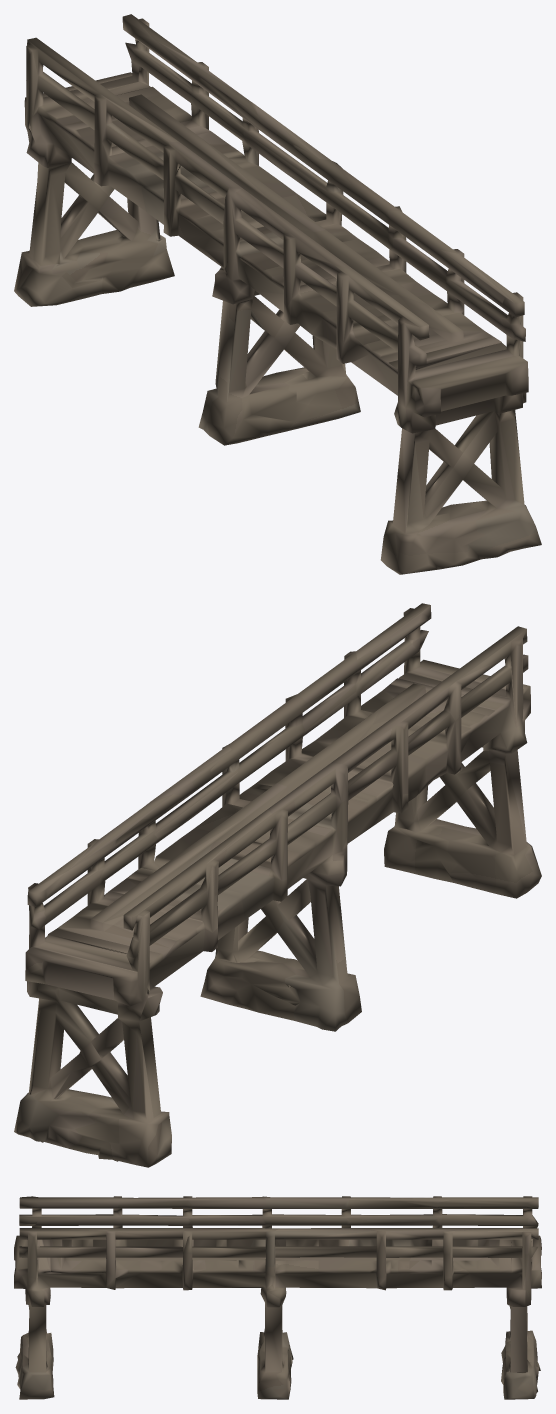
Rendered from bridge_trestle.glb.
The picture shows the model from 3 angles, top to bottom: view 1: azimuth 30°, elevation 25°; view 2: azimuth 150°, elevation 25°; view 3: azimuth 270°, elevation 25°; orthographic projection. The views are drawn at different scales.
Visible parts, largest first — view 1: LO.001; view 2: LO.001; view 3: LO.001.
Boxes of the visible parts, x1,y1,x2,y2 form: LO.001: [14, 14, 541, 574]; LO.001: [14, 603, 541, 1167]; LO.001: [14, 1196, 541, 1399].
Bounding box in the file's own units: 2.4 × 4.09 × 11.89.
1 material, 1 textured.
